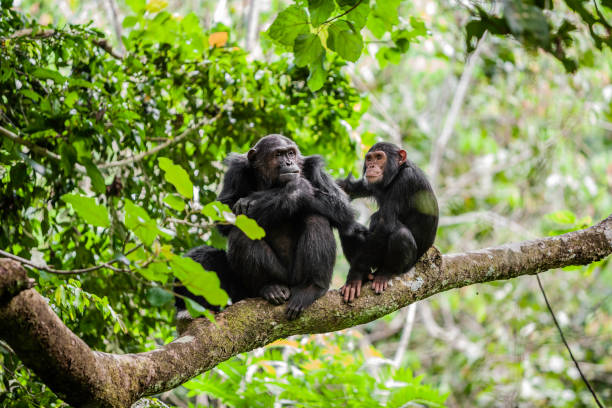chimpanzee: (234, 133, 319, 202), (352, 125, 421, 195)
